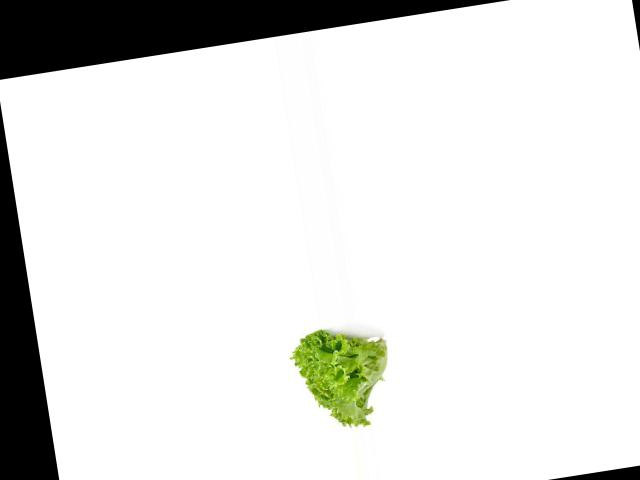lettuce: (281, 319, 405, 439)
